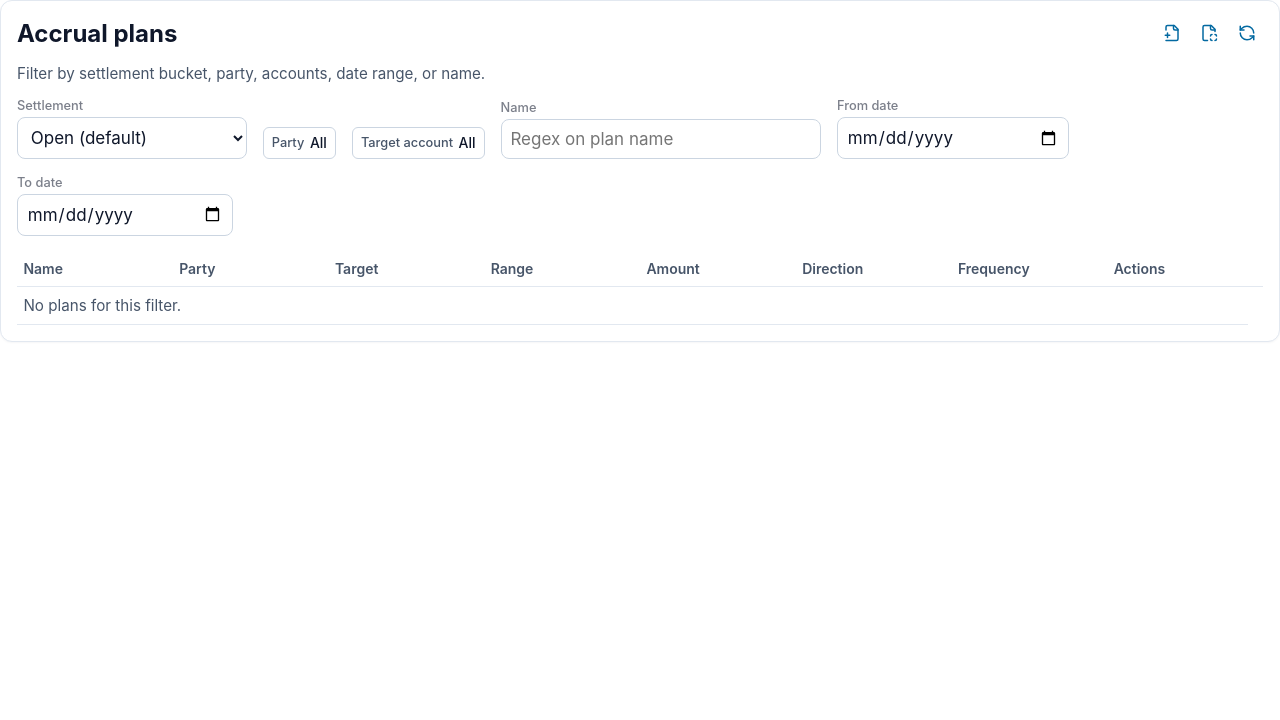
AccrualPlansSection create flow › returns to the edit form when preview cancel is used
Expected: the table named "Accrual plans register" is shown, x1=17 y1=252 x2=1263 y2=325
Click the button named "New accrual plan": (1172, 33) x1=1156 y1=17 x2=1188 y2=49
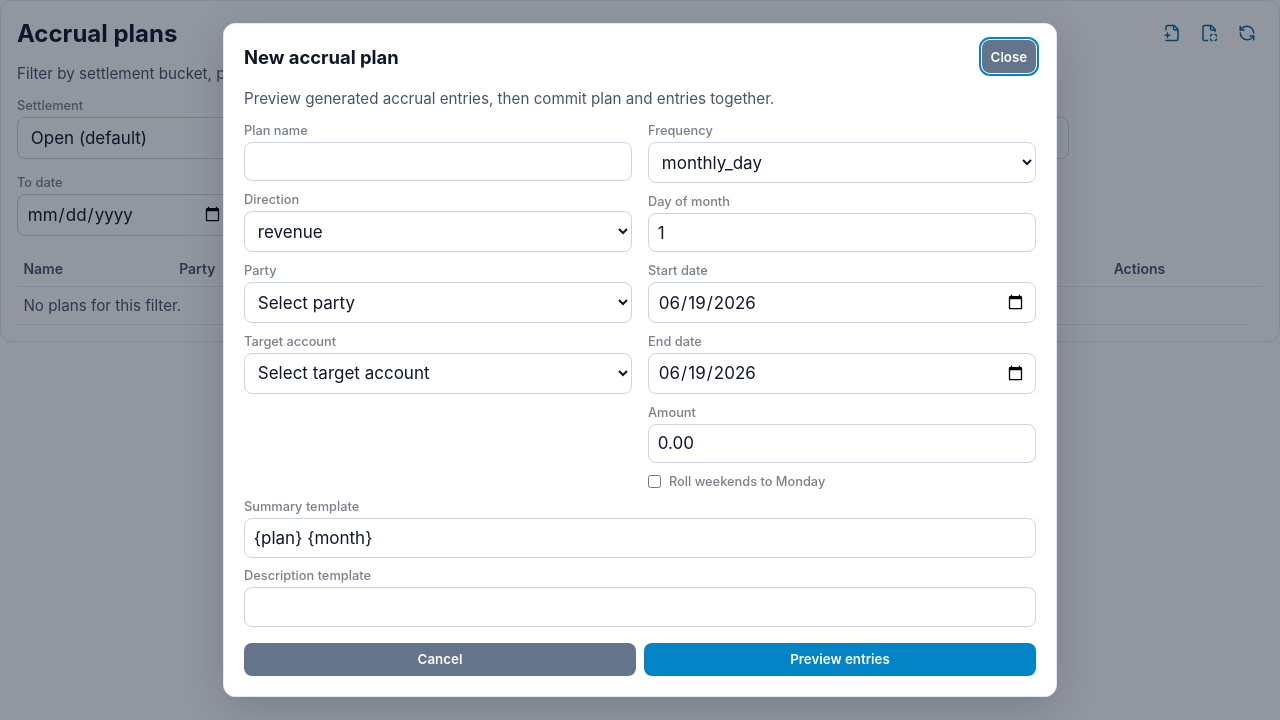
Now the heading "New accrual plan" is shown, box x1=244 y1=46 x2=399 y2=68
In the field labelled "Plan name": (438, 162) x1=244 y1=142 x2=632 y2=181, type "Rent Plan"
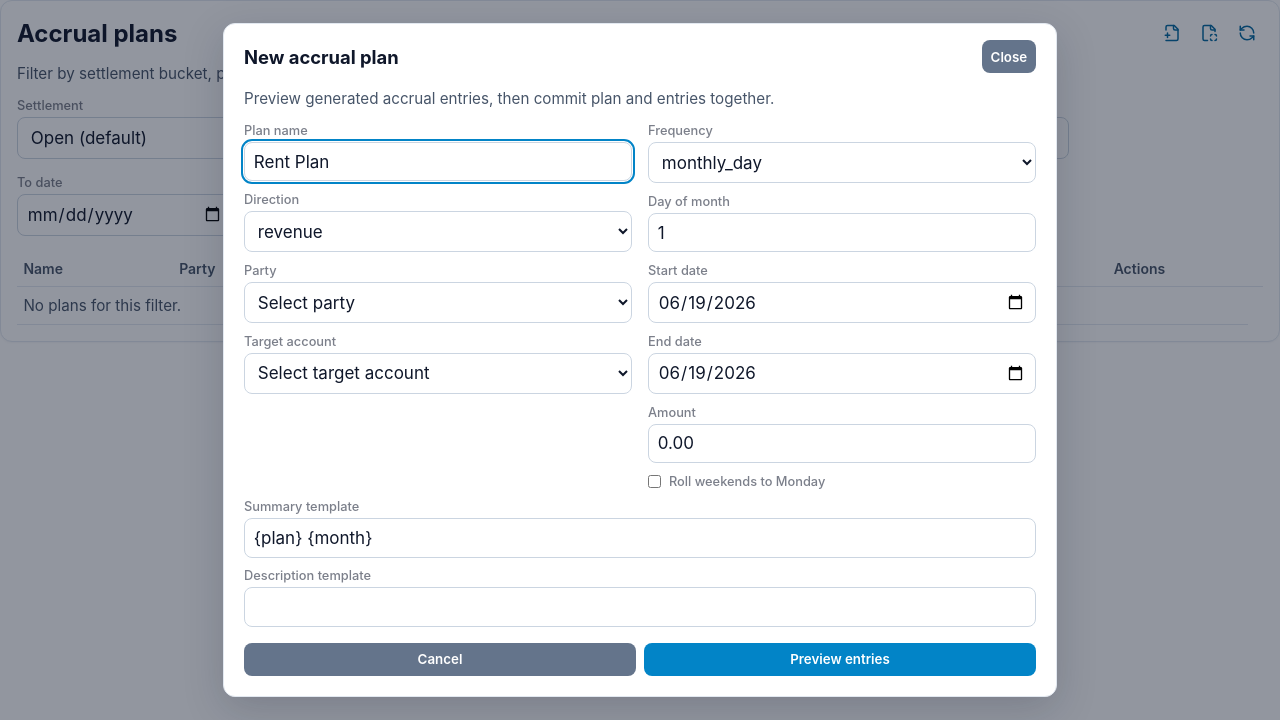
Select "Acme Yard Maintenance" in the dropdown named "Plan party": (438, 302) x1=244 y1=282 x2=632 y2=323
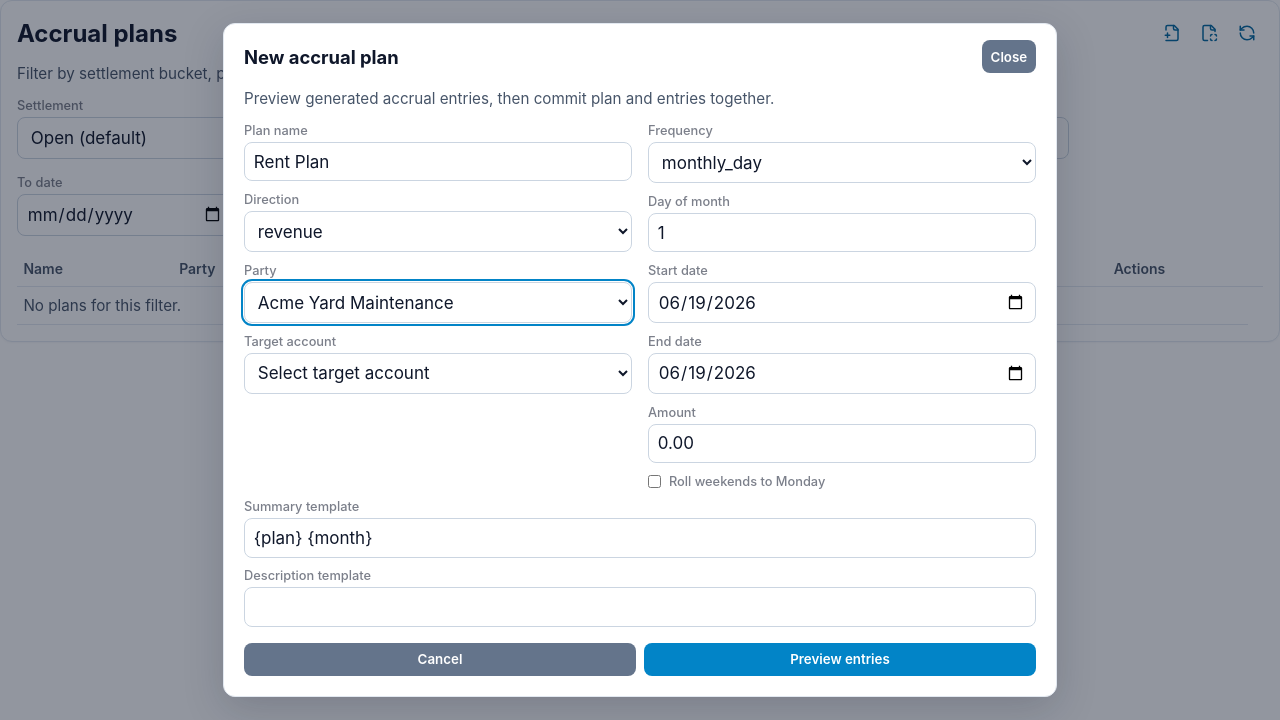
Select "Rent Revenue" in the dropdown named "Plan target account": (438, 374) x1=244 y1=353 x2=632 y2=394
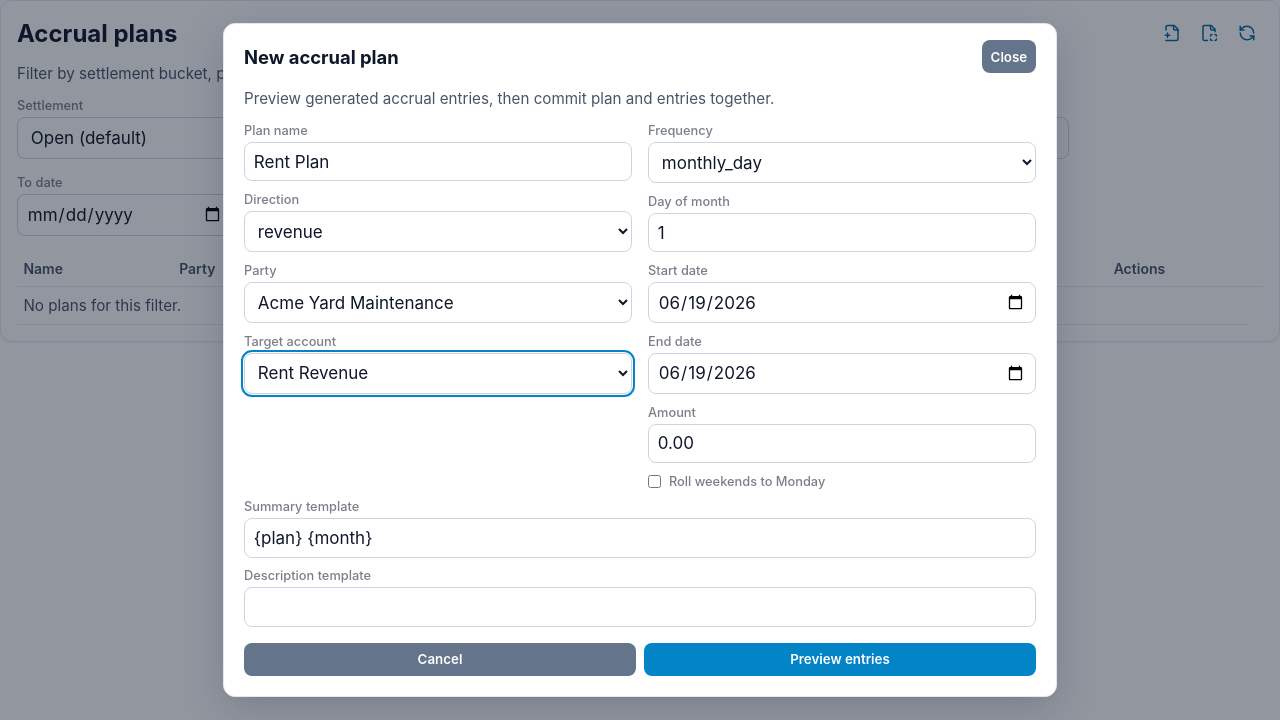
Click the button "Preview entries": (840, 659) x1=644 y1=643 x2=1036 y2=676
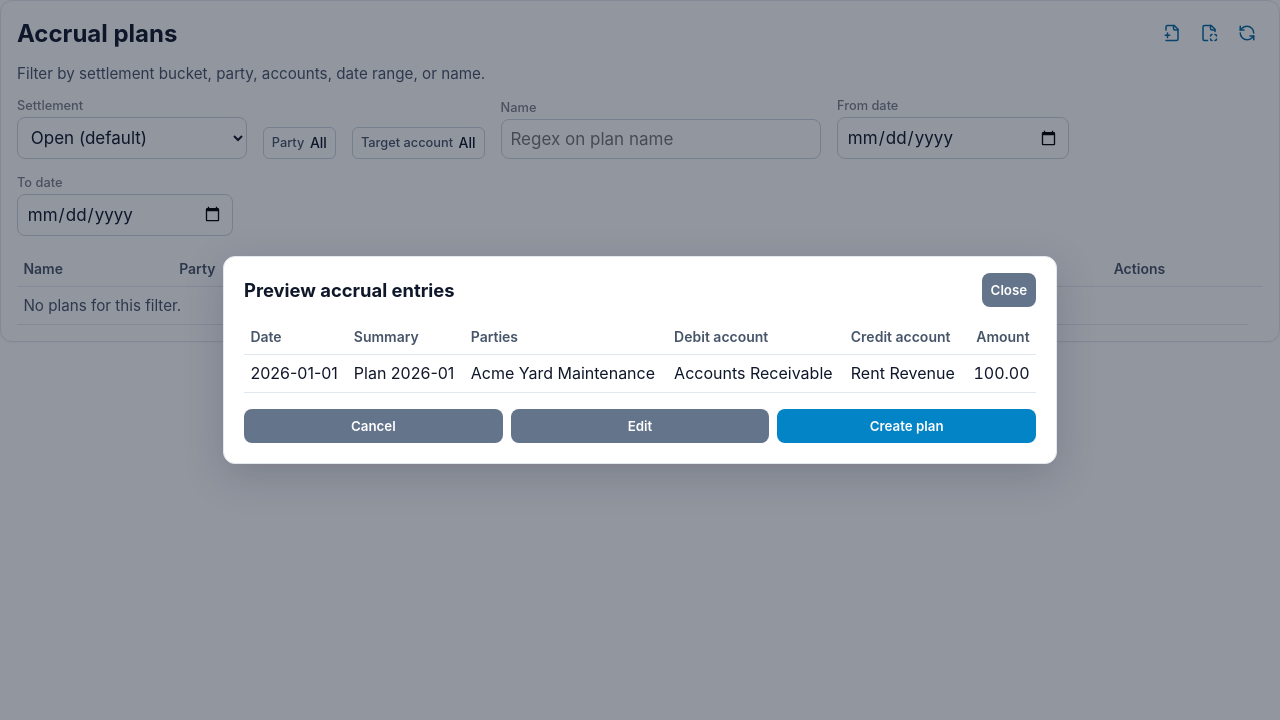
Now the heading "Preview accrual entries" is shown, box x1=244 y1=279 x2=454 y2=301
Click the button "Cancel": (373, 426) x1=244 y1=409 x2=503 y2=443
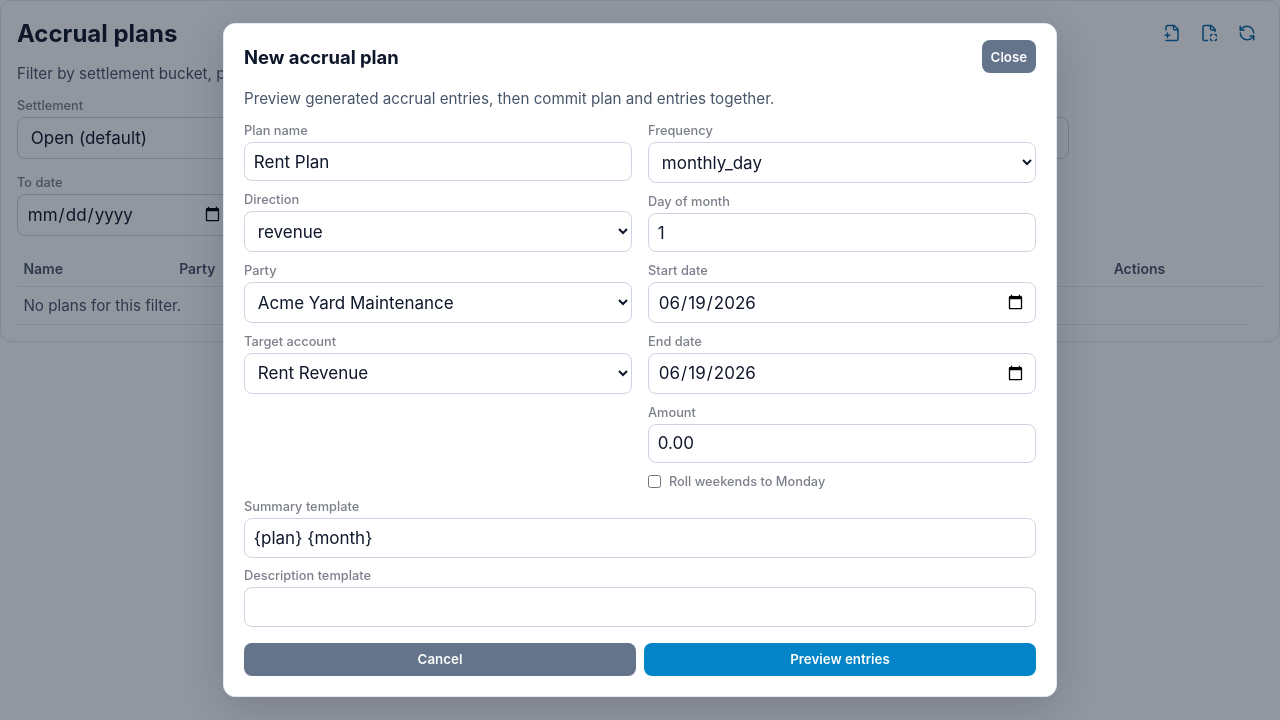
Now the heading "New accrual plan" is shown, box x1=244 y1=46 x2=399 y2=68
Now the field labelled "Plan name" holds "Rent Plan", box x1=244 y1=142 x2=632 y2=181
